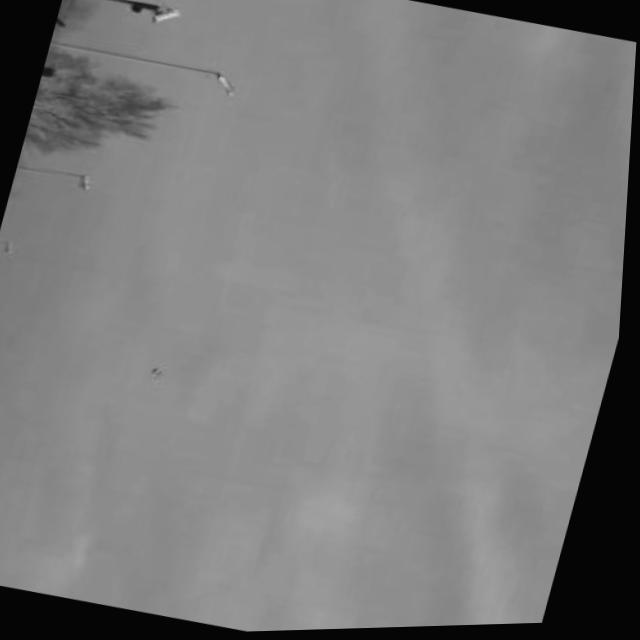helikopter: (136, 354, 182, 387)
